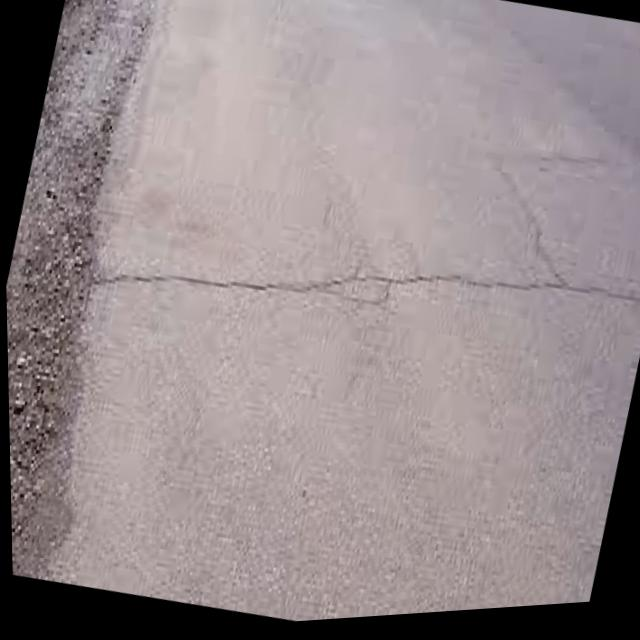Crack: (369, 231, 640, 343), (94, 235, 340, 340)
